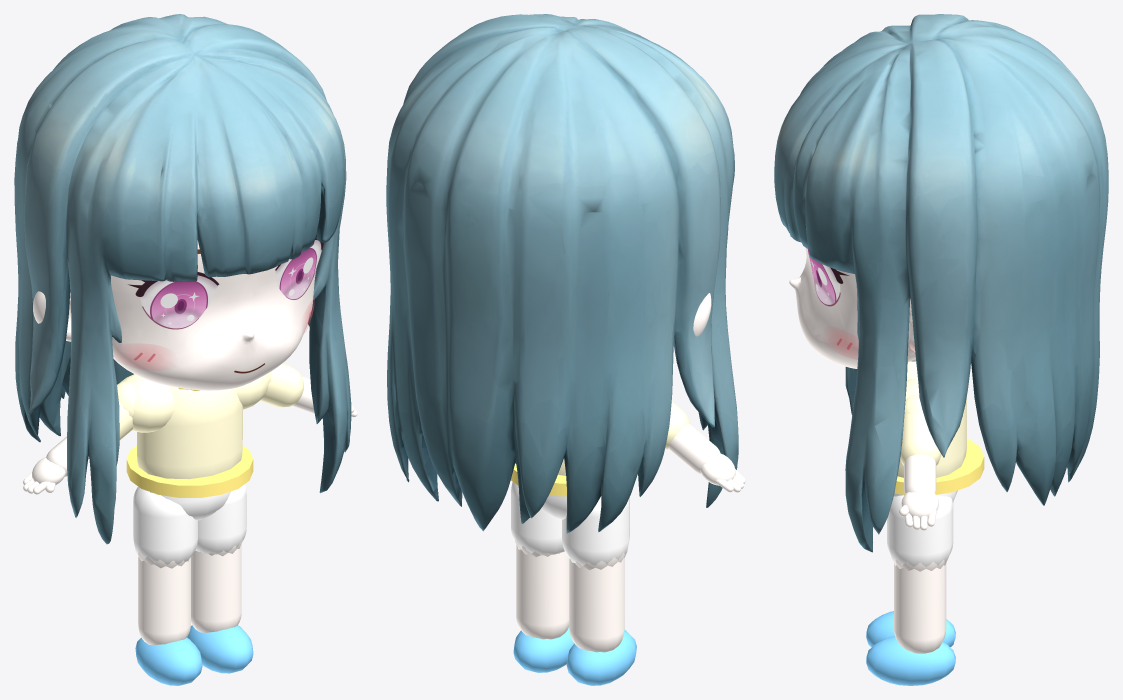
Rendered from frost.glb.
3 views of the same model, side by side, from view 1: azimuth 30°, elevation 25°; view 2: azimuth 150°, elevation 25°; view 3: azimuth 270°, elevation 25° (orthographic). The views are drawn at different scales.
Parts seen in each view (by area): view 1: Hair, Legs, HeadSkin.001, Upper, Face.001, ArmR, ArmL; view 2: Hair, Legs, ArmR, Upper; view 3: Hair, Legs, HeadSkin.001, ArmL, Upper, Face.001.
Part boxes in pixels (<box>): Hair: <box>14,14,351,544</box>; Legs: <box>133,484,253,685</box>; HeadSkin.001: <box>33,240,316,390</box>; Upper: <box>120,374,268,520</box>; Face.001: <box>120,235,323,373</box>; ArmR: <box>23,381,136,494</box>; ArmL: <box>260,363,357,417</box>; Hair: <box>386,14,738,533</box>; Legs: <box>511,481,636,685</box>; ArmR: <box>665,401,745,492</box>; Upper: <box>511,459,566,519</box>; Hair: <box>774,14,1108,552</box>; Legs: <box>866,495,955,685</box>; HeadSkin.001: <box>789,247,916,368</box>; ArmL: <box>899,394,941,530</box>; Upper: <box>894,361,984,502</box>; Face.001: <box>806,248,914,359</box>.
Bounding box in the file's own units: 1.68 × 3.07 × 1.46.
8 materials, 2 textured.
